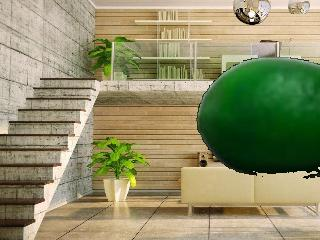lime: (197, 58, 320, 180)
